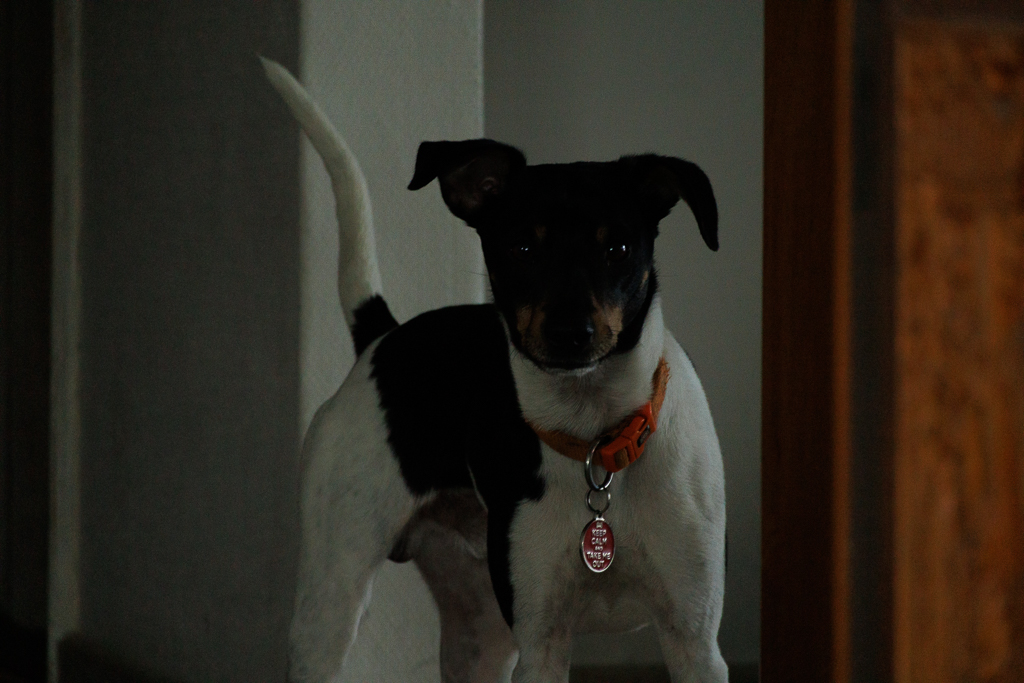Dog: (253, 49, 742, 683)
